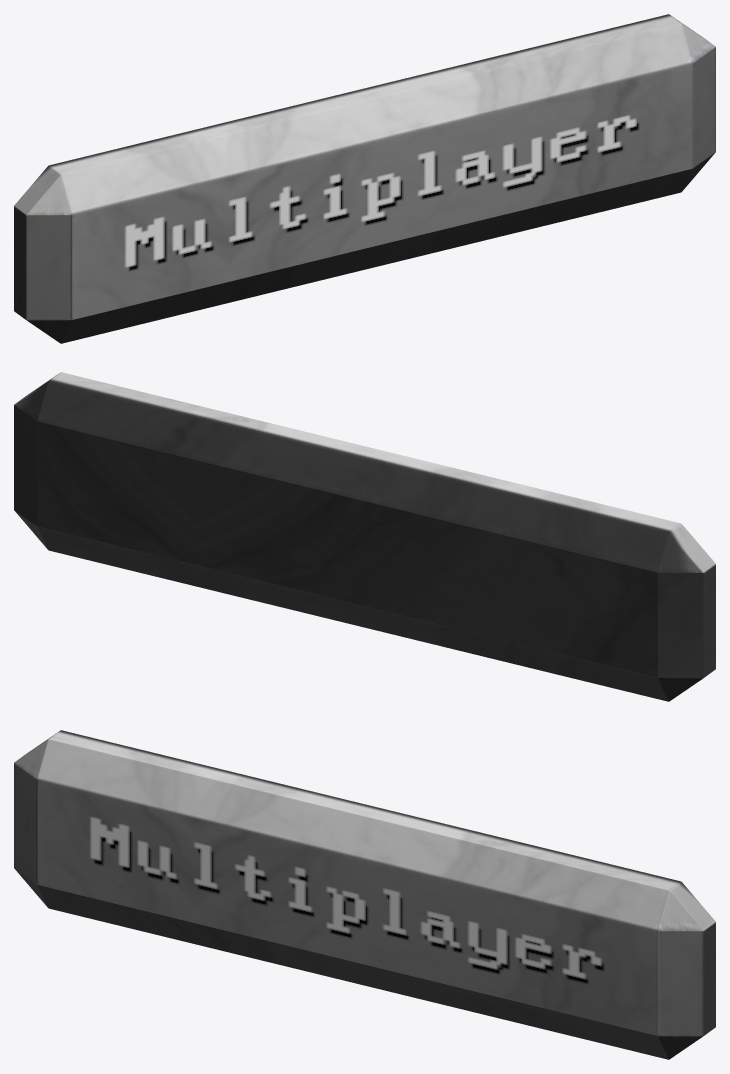
File: menubuttonbottom.gltf
3 renders of one model, top to bottom at view 1: azimuth 30°, elevation 25°; view 2: azimuth 150°, elevation 25°; view 3: azimuth 330°, elevation 25°, orthographic.
Visible parts, largest first — view 1: Cube; view 2: Cube; view 3: Cube.
Boxes of the visible parts, left/top/right/bottom form: Cube: left=14, top=14, right=715, bottom=343; Cube: left=14, top=372, right=715, bottom=701; Cube: left=14, top=730, right=715, bottom=1059.
Size of the model in its own units: 2 by 0.4691 by 0.1753.
Materials: 1 (1 with a texture image).
